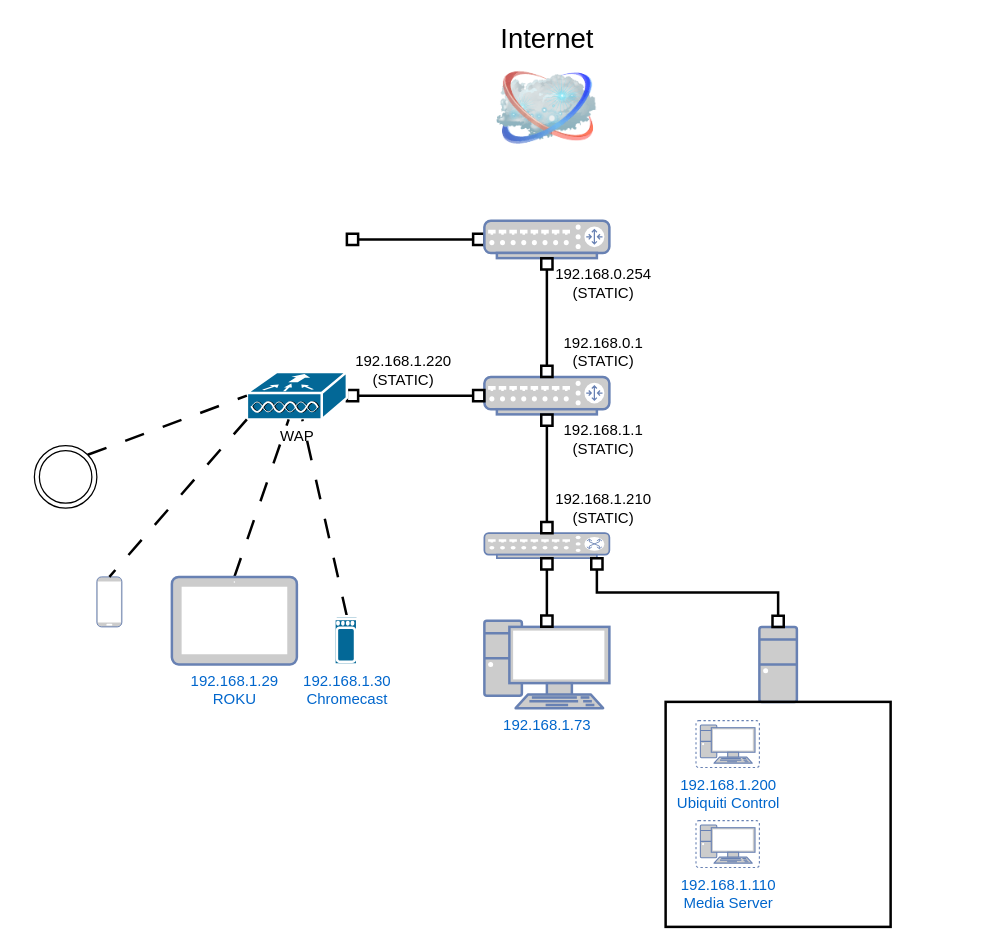
Image size: 981x949. Some labels were removed from this diagram. Each missing label, with the centre of its shape:
192.168.1.100 (STATIC): the point at 778,663
192.168.1.31 Roomba: the point at 65,476
192.168.1.77 PIXEL 8: the point at 108,601
